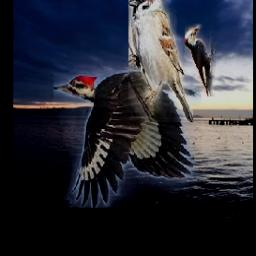Sparrow: (129, 0, 194, 122)
Woodpecker: (53, 70, 202, 208), (186, 24, 217, 96)
